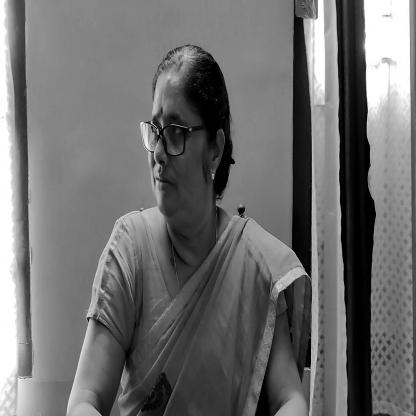Distracted: (138, 41, 230, 235)
